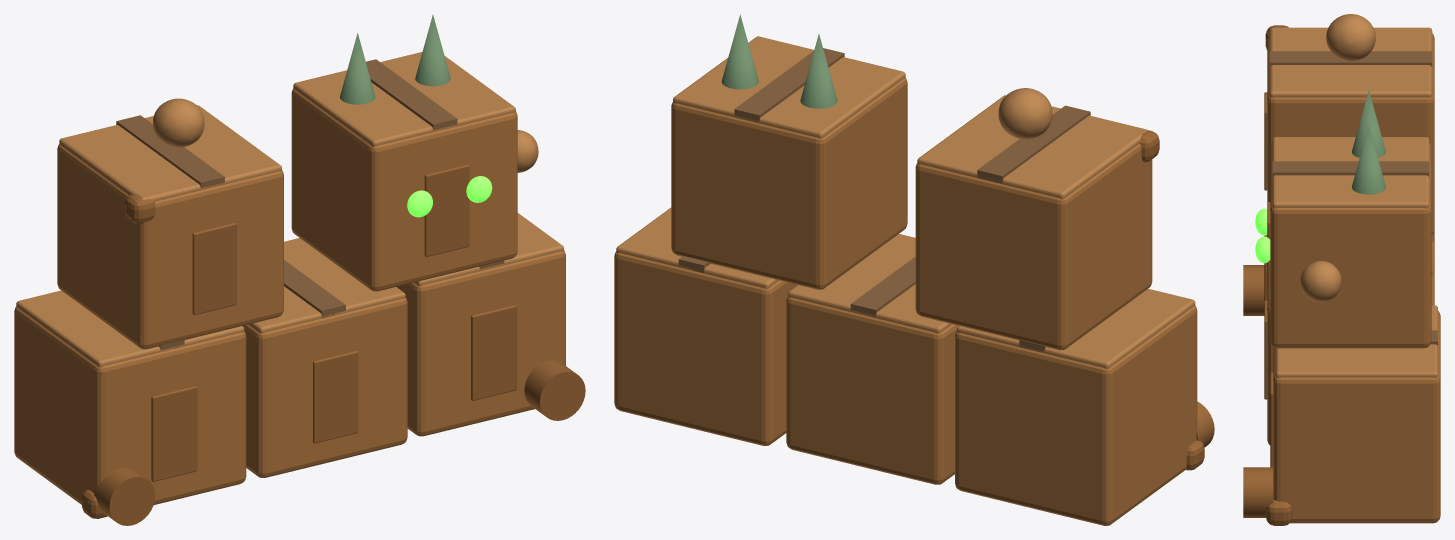
The model's file is zc_cardboard_barricade.glb.
The picture shows the model from 3 angles, left to right: view 1: azimuth 30°, elevation 25°; view 2: azimuth 150°, elevation 25°; view 3: azimuth 270°, elevation 25°; orthographic projection. The views are drawn at different scales.
Visible parts, largest first — view 1: zc_cardboard_barricade; view 2: zc_cardboard_barricade; view 3: zc_cardboard_barricade.
Part boxes in pixels (x1=…): zc_cardboard_barricade: x1=14, y1=15, x2=585, y2=525; zc_cardboard_barricade: x1=614, y1=14, x2=1214, y2=525; zc_cardboard_barricade: x1=1243, y1=14, x2=1440, y2=525.
Bounding box in the file's own units: 1.81 × 1.33 × 0.66.
Materials: 1 (1 with a texture image).
